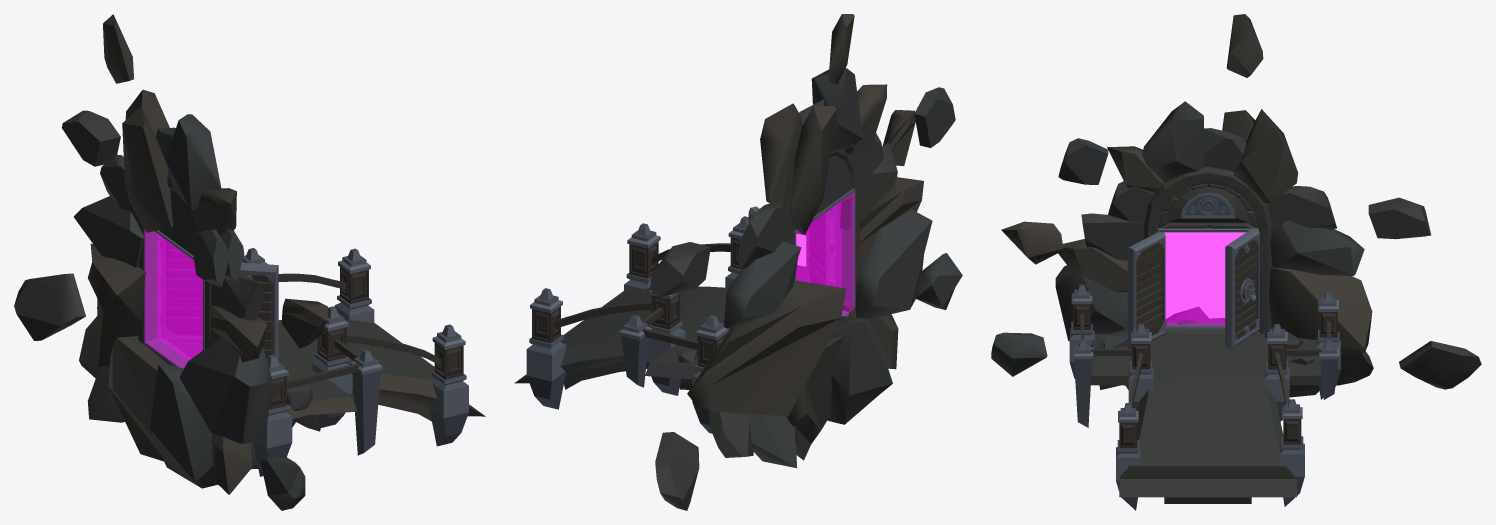
Rendered from magicportal.fbx.
3 renders of one model, left to right at view 1: azimuth 30°, elevation 25°; view 2: azimuth 150°, elevation 25°; view 3: azimuth 270°, elevation 25°, orthographic. The views are drawn at different scales.
Visible parts, largest first — view 1: Cube.002_0, Cube.002_1, Cube.002_2, Cube.002_3, Cylinder.000_0, Cube.002_6, Cube.002_4, Cube.002_5; view 2: Cube.002_1, Cube.002_0, Cube.002_2, Cube.002_3, Cylinder.000_0, Cube.002_6, Cube.002_4, Cube.002_5; view 3: Cube.002_2, Cube.002_0, Cube.002_1, Cube.002_3, Cylinder.000_0, Cube.002_4, Cube.002_6, Cube.002_5.
Part boxes in pixels (x1,y1,x2,y2): Cube.002_0: (73, 114, 312, 510); Cube.002_1: (88, 14, 485, 494); Cube.002_2: (14, 110, 484, 415); Cube.002_3: (143, 227, 468, 448); Cylinder.000_0: (144, 229, 202, 368); Cube.002_6: (166, 243, 462, 407); Cube.002_4: (160, 241, 468, 476); Cube.002_5: (166, 240, 463, 409); Cube.002_1: (679, 14, 923, 460); Cube.002_0: (514, 68, 962, 468); Cube.002_2: (515, 142, 897, 510); Cube.002_3: (526, 188, 855, 402); Cylinder.000_0: (796, 192, 853, 316); Cube.002_6: (533, 221, 825, 365); Cube.002_4: (527, 208, 834, 433); Cube.002_5: (532, 213, 825, 367); Cube.002_2: (1081, 167, 1481, 503); Cube.002_0: (991, 101, 1364, 478); Cube.002_1: (1001, 14, 1372, 478); Cube.002_3: (1069, 193, 1340, 480); Cylinder.000_0: (1164, 232, 1245, 325); Cube.002_4: (1069, 195, 1340, 510); Cube.002_6: (1078, 239, 1335, 442); Cube.002_5: (1073, 243, 1337, 448).
Bounding box in the file's own units: 2309 × 3319 × 3760.
